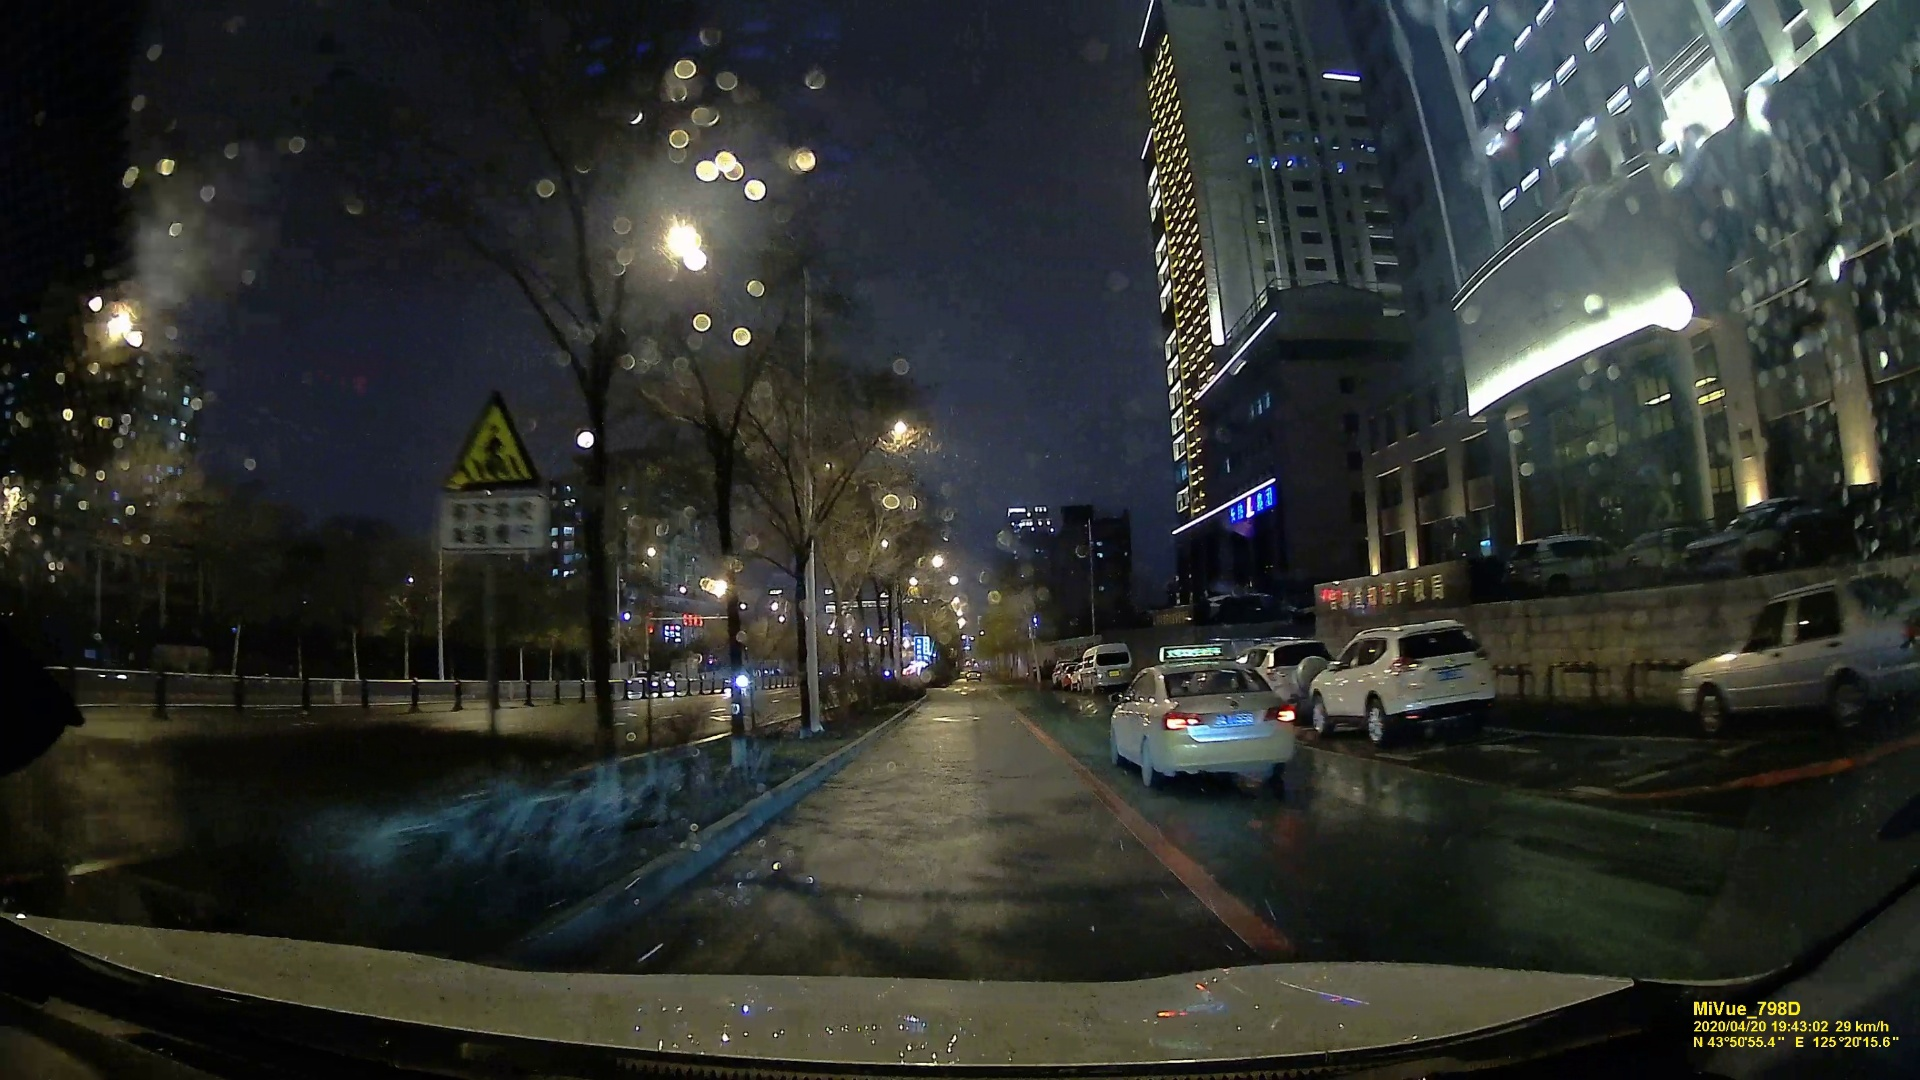minibus: (1077, 644, 1130, 694)
traffic_sign: (431, 397, 550, 555)
vehicle: (1677, 585, 1917, 731), (1112, 659, 1299, 790), (1312, 620, 1501, 742)
